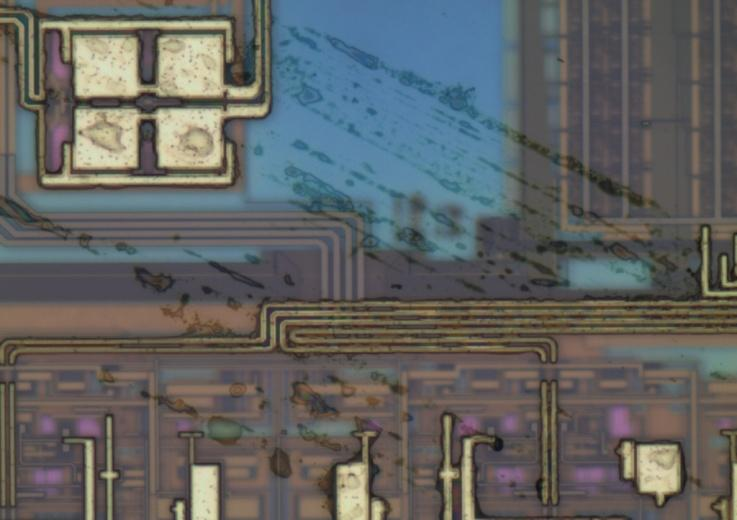PO CONTAMINATION: (1, 1, 737, 520)
